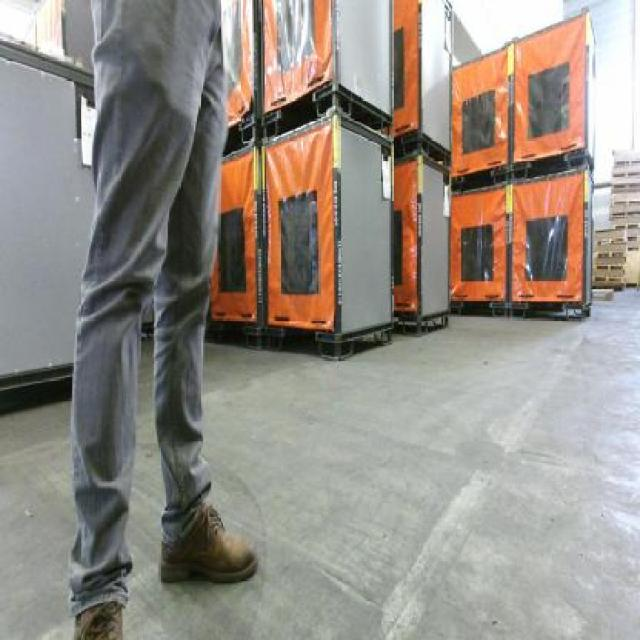pallet: (591, 245, 632, 265), (604, 206, 640, 221), (609, 178, 640, 192)
